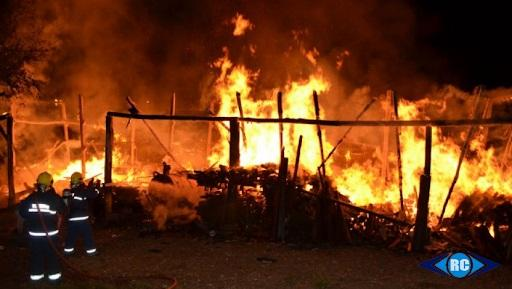fire: (398, 125, 506, 209), (217, 61, 321, 117), (338, 169, 392, 214), (241, 121, 285, 170), (287, 125, 328, 171), (64, 158, 105, 181)
